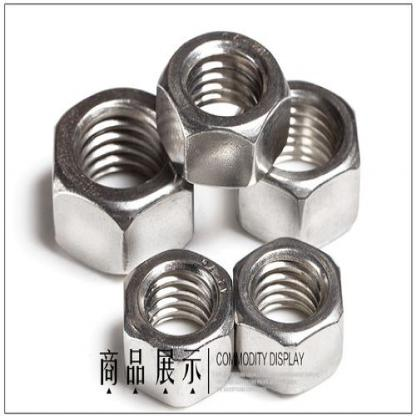FOD: (50, 86, 196, 271), (236, 76, 362, 248), (156, 28, 292, 187), (232, 235, 344, 395), (123, 248, 233, 400)
